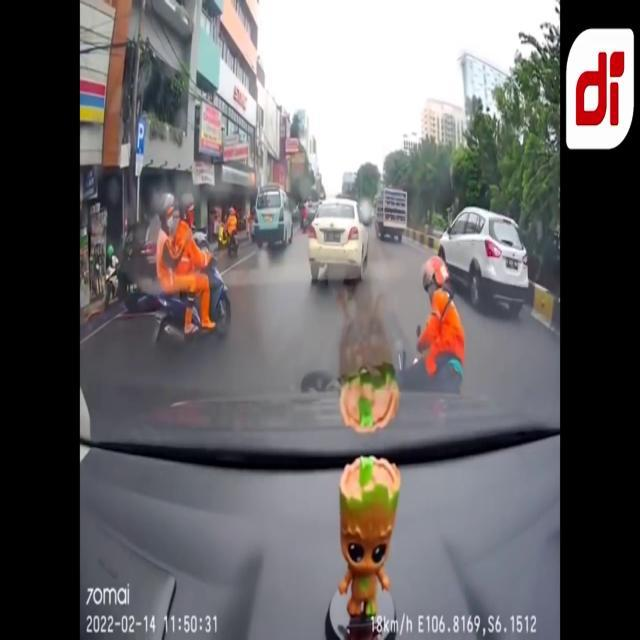normal: (115, 163, 238, 363)
single accident: (307, 242, 503, 415)
